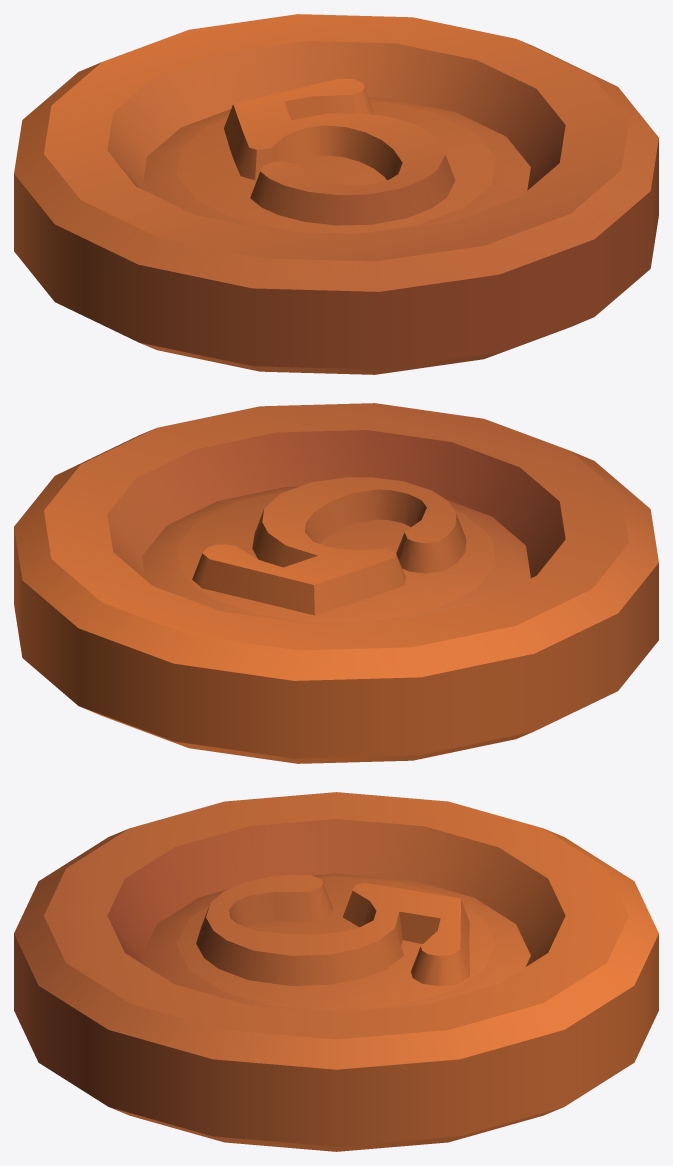
Rendered from coin_5_copper.glb.
The picture shows the model from 3 angles, top to bottom: view 1: azimuth 30°, elevation 25°; view 2: azimuth 150°, elevation 25°; view 3: azimuth 270°, elevation 25°; orthographic projection.
Parts seen in each view (by area): view 1: coin_5_copper; view 2: coin_5_copper; view 3: coin_5_copper.
Part boxes in pixels (left/top/right/bottom): coin_5_copper: left=14, top=14, right=658, bottom=374; coin_5_copper: left=14, top=403, right=658, bottom=763; coin_5_copper: left=14, top=792, right=658, bottom=1151.
Bounding box in the file's own units: 1.04 × 0.2 × 1.04.
1 material, 1 textured.
